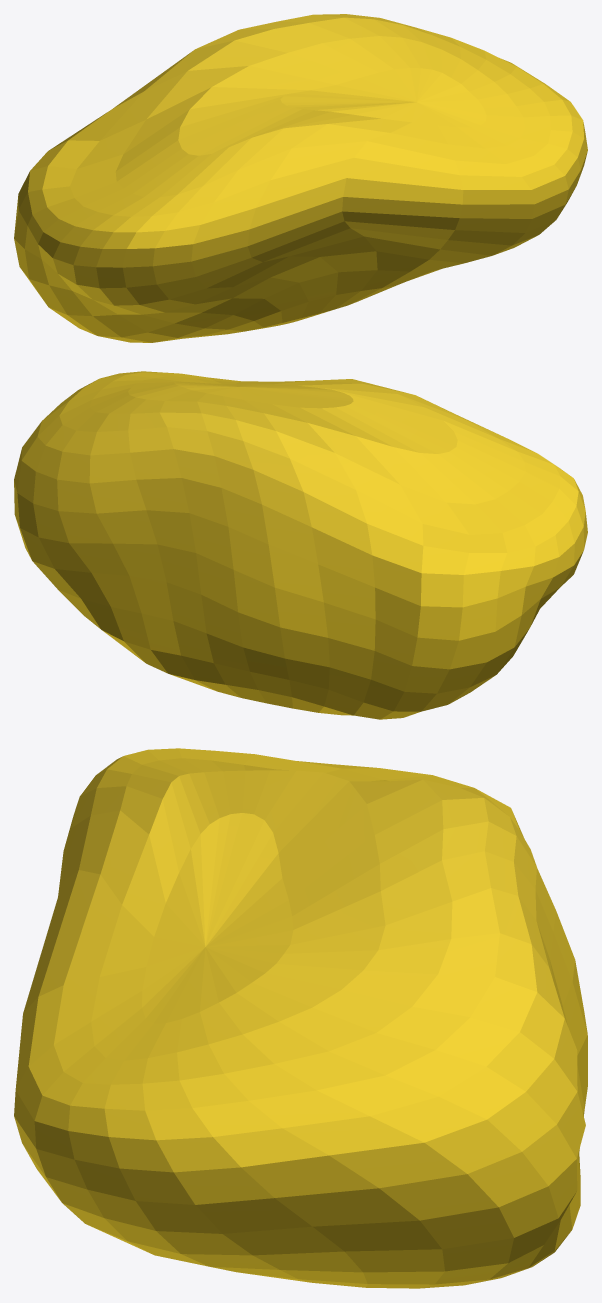
The model's file is Pile of gold.fbx.
3 views of the same model, one above another, from view 1: azimuth 30°, elevation 25°; view 2: azimuth 150°, elevation 25°; view 3: azimuth 270°, elevation 25° (orthographic). The views are drawn at different scales.
Visible parts, largest first — view 1: Pile of gold; view 2: Pile of gold; view 3: Pile of gold.
Part boxes in pixels (left/top/right/bottom): Pile of gold: left=14, top=14, right=587, bottom=342; Pile of gold: left=14, top=371, right=587, bottom=719; Pile of gold: left=14, top=748, right=587, bottom=1288.
Size of the model in its own units: 85.42 by 42.2 by 50.5.
